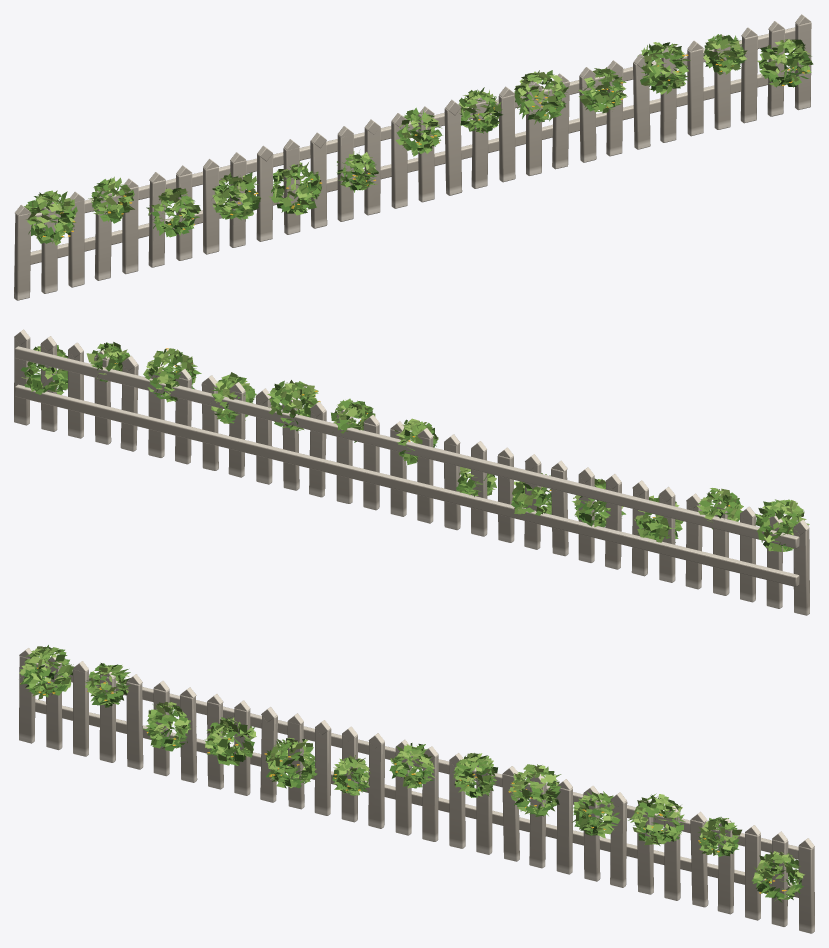
File: unlock-flowerfence-thu.glb
3 renders of one model, top to bottom at view 1: azimuth 30°, elevation 25°; view 2: azimuth 150°, elevation 25°; view 3: azimuth 330°, elevation 25°, orthographic.
Visible parts, largest first — view 1: unlock-flowerfence-static; view 2: unlock-flowerfence-static; view 3: unlock-flowerfence-static.
Part boxes in pixels (<box>): unlock-flowerfence-static: <box>14,14,813,300</box>; unlock-flowerfence-static: <box>14,329,809,615</box>; unlock-flowerfence-static: <box>19,645,814,933</box>.
Size of the model in its own units: 3.25 by 0.4084 by 0.2021.
Materials: 11 (2 with a texture image).
